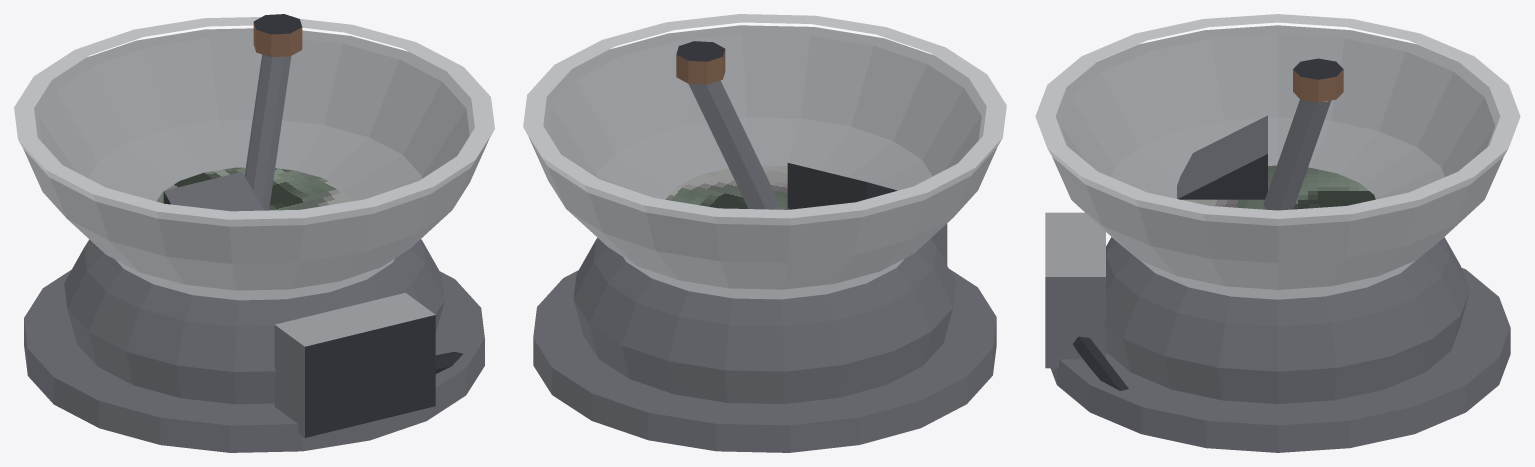
Rendered from Building_AncientShipBeacon.glb.
3 renders of one model, left to right at view 1: azimuth 30°, elevation 25°; view 2: azimuth 150°, elevation 25°; view 3: azimuth 270°, elevation 25°, orthographic.
Visible parts, largest first — view 1: AncientShipBeacon; view 2: AncientShipBeacon; view 3: AncientShipBeacon.
Part boxes in pixels (bbox=[...]): AncientShipBeacon: bbox=[14, 14, 494, 452]; AncientShipBeacon: bbox=[523, 14, 1006, 452]; AncientShipBeacon: bbox=[1035, 14, 1520, 452].
Size of the model in its own units: 0.96 by 0.67 by 0.96.
Materials: 1 (1 with a texture image).
